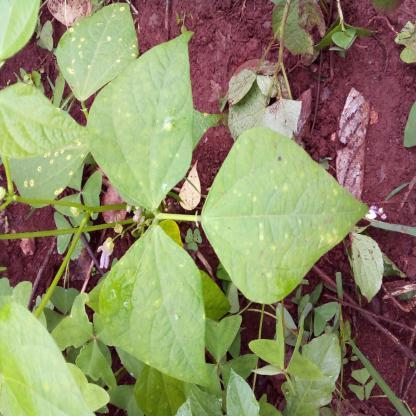Beans_Rust: (197, 128, 368, 302), (88, 30, 194, 210), (93, 227, 210, 384), (48, 4, 145, 102), (10, 140, 92, 200)
